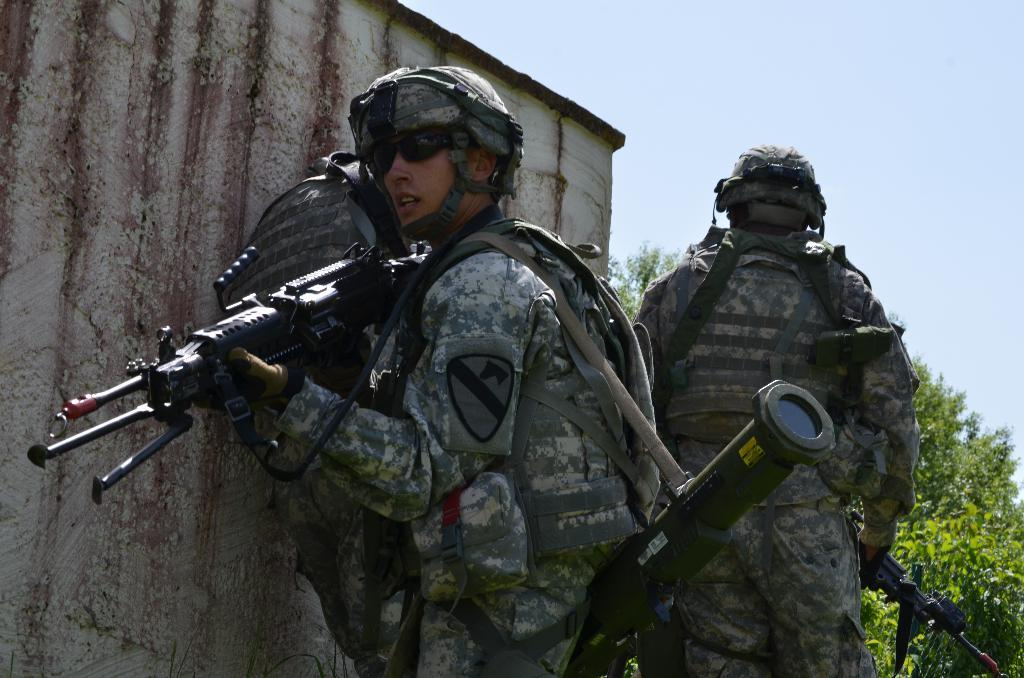Rifle: (23, 239, 431, 503), (854, 508, 1010, 677)
